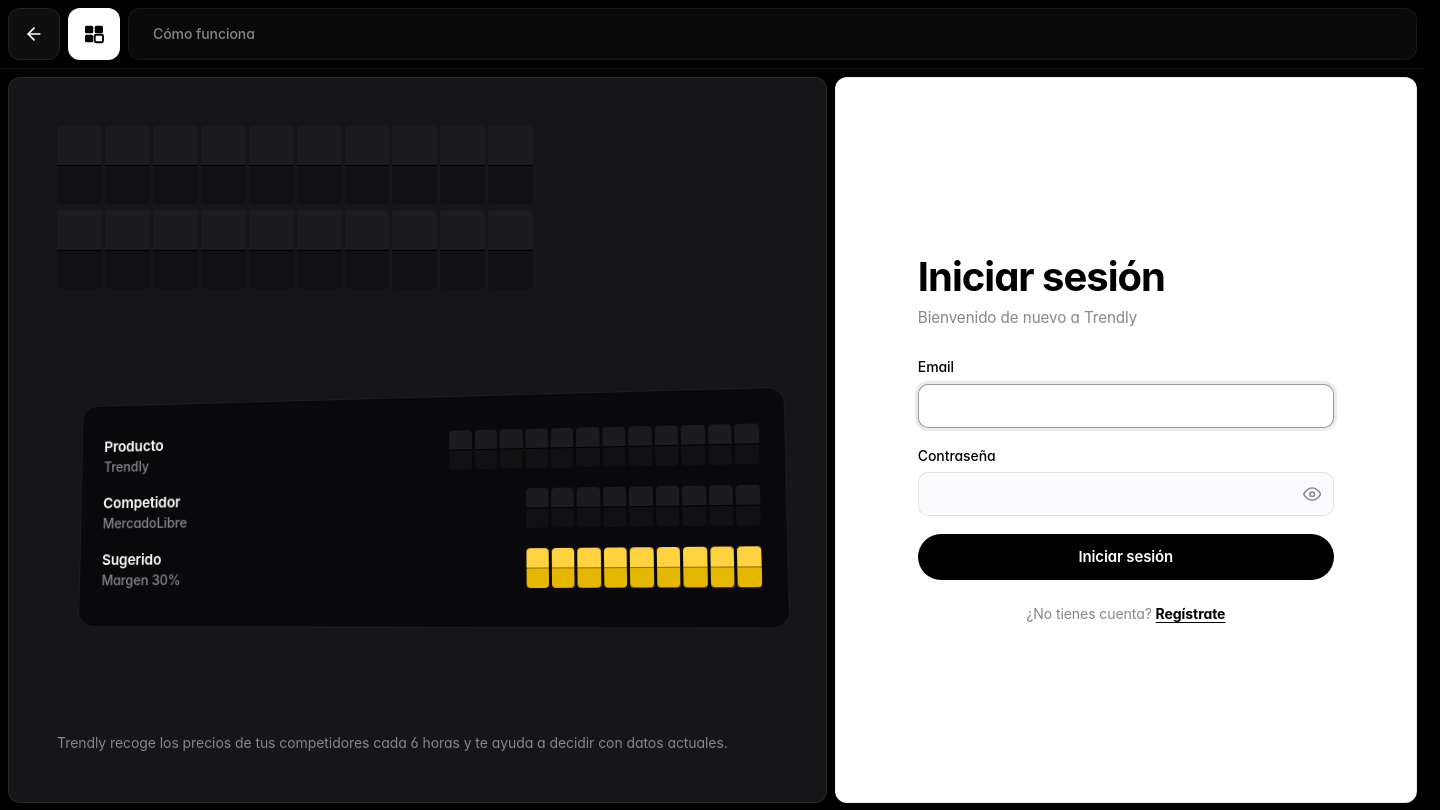
inicio de sesión › muestra "Credenciales inválidas" cuando el API responde 401
The width and height of the screenshot is (1440, 810).
Type "vendedor@trendly.co" into the field labelled "Email".
click(1126, 406); type("vendedor@trendly.co")  # box 918,384 -> 1334,428
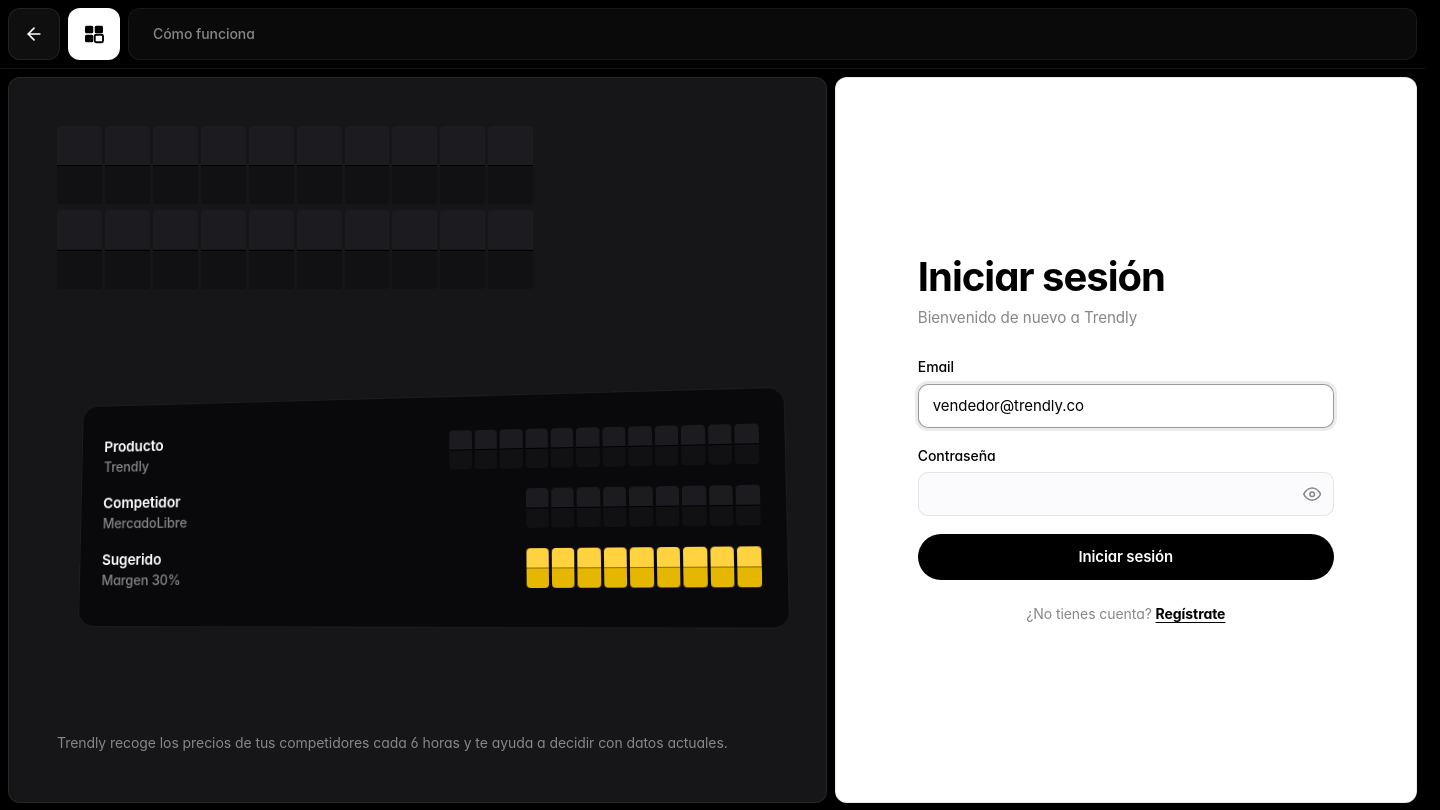
Type "Incorrecta1" into the password field labelled "Contraseña".
click(1126, 494); type("Incorrecta1")  # box 918,472 -> 1334,516
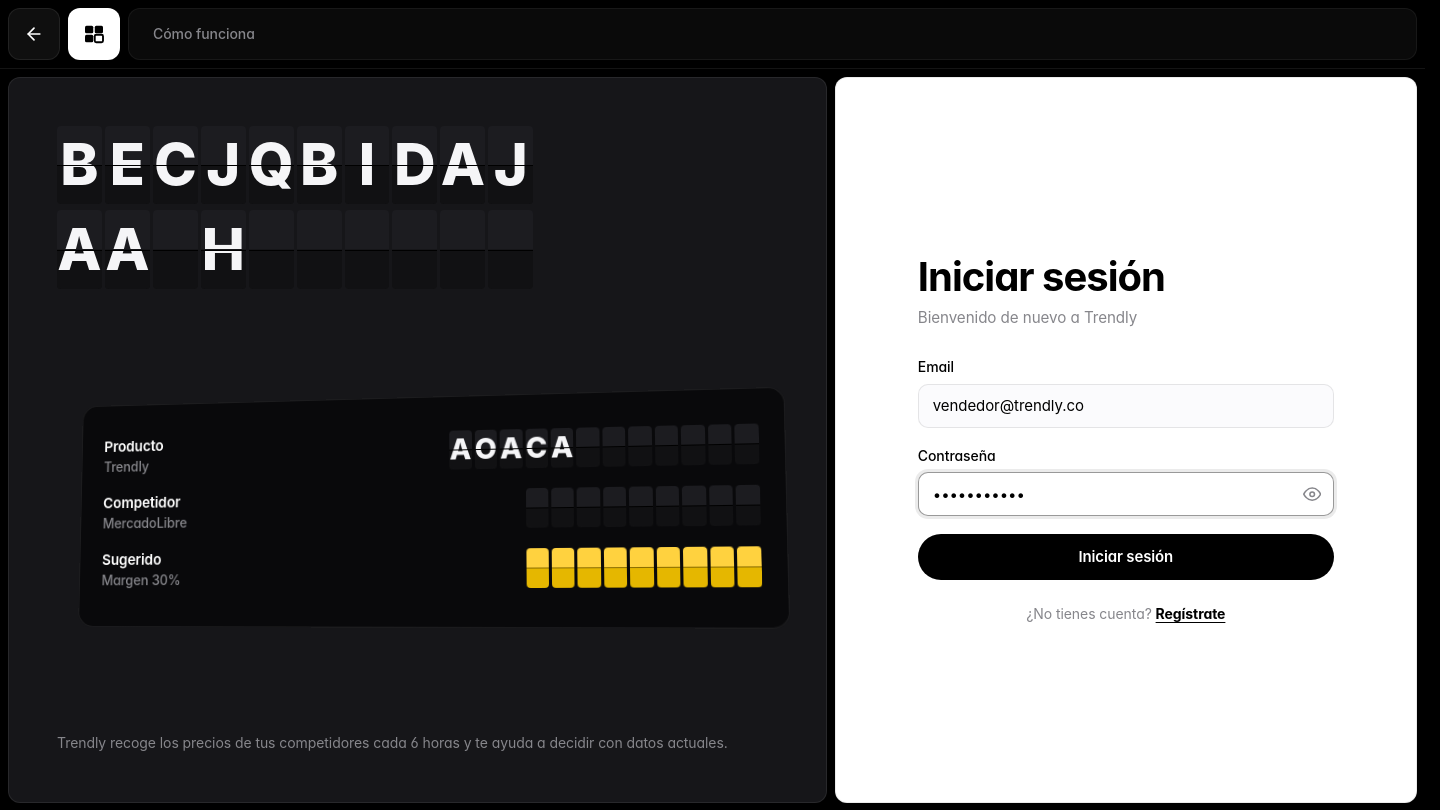
Click the button "Iniciar sesión".
click(1126, 557)  # box 918,534 -> 1334,580
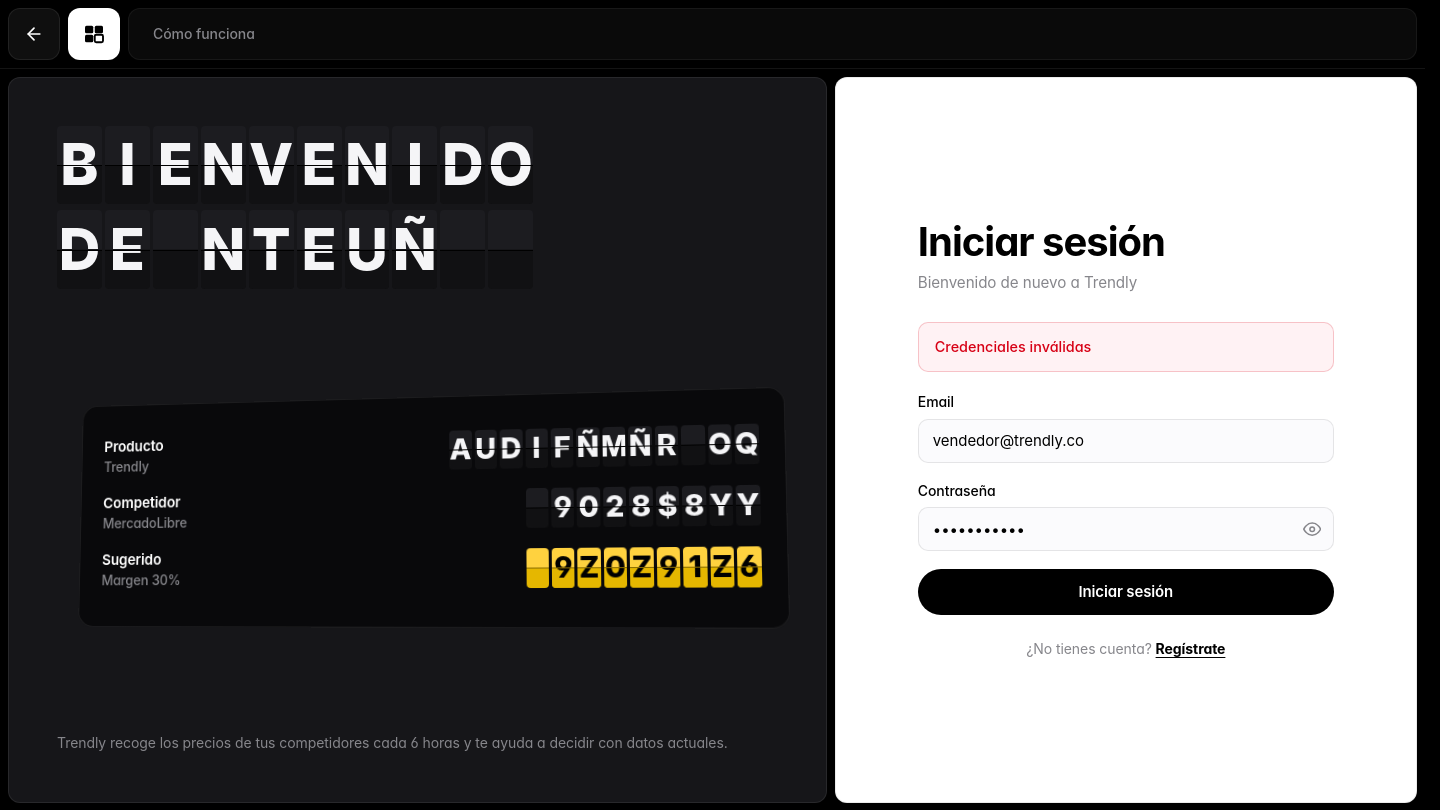
Check: the text "Credenciales inválidas" is shown, box 918,322 -> 1334,372
